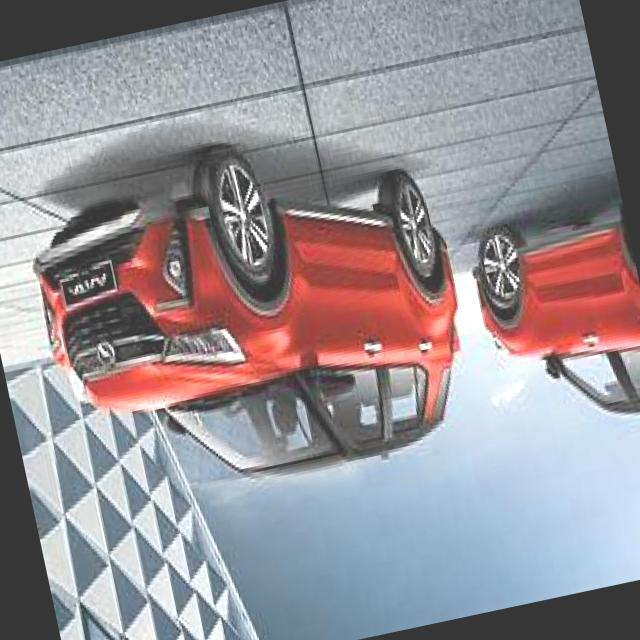PeroduaAtiva: (13, 102, 489, 524)
